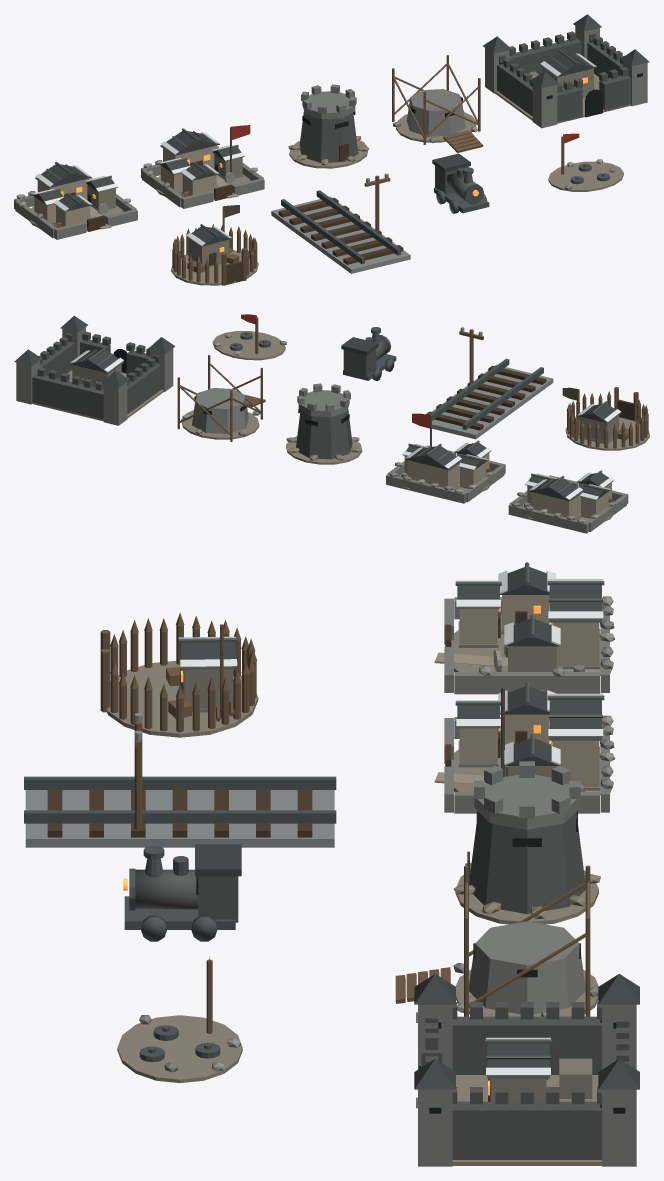
The model's file is taihang-tile-assets-catalog.glb.
The picture shows the model from 3 angles, top to bottom: view 1: azimuth 30°, elevation 25°; view 2: azimuth 150°, elevation 25°; view 3: azimuth 270°, elevation 25°; orthographic projection. The views are drawn at different scales.
Parts seen in each view (by area): view 1: TH_RailSegment_Ballast, TH_Pillbox_Body, TH_PillboxSite_HalfShell, TH_MineCluster_Ground, TH_CountyTown_BackWall, TH_CountyTown_LeftWall, TH_CountyTown_CornerTower_0, TH_Pillbox_ConcreteCap, TH_CountyTown_FrontWallR, TH_CountyTown_FrontWallL, TH_RailSegment_Rail_+0.23, TH_RailSegment_Rail_-0.23 (+25 smaller); view 2: TH_Pillbox_Body, TH_CountyTown_BackWall, TH_PillboxSite_HalfShell, TH_RailSegment_Ballast, TH_MineCluster_Ground, TH_CountyTown_LeftWall, TH_VillageHQ_MainHouse_Walls, TH_CountyTown_CornerTower_2, TH_Pillbox_ConcreteCap, TH_VillageHQ_Wall_0, TH_VillageNeutral_Wall_0, TH_VillageNeutral_MainHouse_Walls (+22 smaller); view 3: TH_RailSegment_Ballast, TH_Pillbox_Body, TH_CountyTown_RightWall, TH_PillboxSite_HalfShell, TH_CountyTown_LeftWall, TH_MineCluster_Ground, TH_RailSegment_Rail_-0.23, TH_RailSegment_Rail_+0.23, TH_Pillbox_ConcreteCap, TH_BanditStockade_Ground, TH_VillageNeutral_Wall_2, TH_CountyTown_CornerTower_1 (+35 smaller).
Boxes of the visible parts, x1,y1,x2,y2 form: TH_RailSegment_Ballast: [271, 196, 410, 273]; TH_Pillbox_Body: [299, 111, 358, 162]; TH_PillboxSite_HalfShell: [407, 89, 465, 136]; TH_MineCluster_Ground: [548, 161, 623, 191]; TH_CountyTown_BackWall: [509, 38, 581, 74]; TH_CountyTown_LeftWall: [497, 64, 532, 116]; TH_CountyTown_CornerTower_0: [532, 83, 557, 128]; TH_Pillbox_ConcreteCap: [302, 91, 355, 119]; TH_CountyTown_FrontWallR: [599, 75, 630, 111]; TH_CountyTown_FrontWallL: [557, 86, 582, 122]; TH_RailSegment_Rail_+0.23: [316, 190, 400, 255]; TH_RailSegment_Rail_-0.23: [281, 199, 364, 263]; TH_Pillbox_Body: [296, 409, 352, 459]; TH_CountyTown_BackWall: [32, 373, 103, 419]; TH_PillboxSite_HalfShell: [192, 388, 248, 433]; TH_RailSegment_Ballast: [432, 364, 553, 439]; TH_MineCluster_Ground: [212, 331, 285, 360]; TH_CountyTown_LeftWall: [127, 363, 161, 414]; TH_VillageHQ_MainHouse_Walls: [407, 460, 459, 489]; TH_CountyTown_CornerTower_2: [103, 382, 127, 425]; TH_Pillbox_ConcreteCap: [298, 390, 349, 417]; TH_VillageHQ_Wall_0: [386, 474, 466, 503]; TH_VillageNeutral_Wall_0: [508, 504, 588, 533]; TH_VillageNeutral_MainHouse_Walls: [531, 492, 580, 518]; TH_RailSegment_Ballast: [25, 790, 334, 847]; TH_Pillbox_Body: [470, 811, 585, 914]; TH_CountyTown_RightWall: [452, 1101, 601, 1159]; TH_PillboxSite_HalfShell: [469, 921, 585, 1014]; TH_CountyTown_LeftWall: [452, 1016, 601, 1074]; TH_MineCluster_Ground: [117, 1015, 242, 1082]; TH_RailSegment_Rail_-0.23: [24, 776, 336, 789]; TH_RailSegment_Rail_+0.23: [24, 810, 336, 823]; TH_Pillbox_ConcreteCap: [474, 774, 580, 829]; TH_BanditStockade_Ground: [106, 660, 258, 737]; TH_VillageNeutral_Wall_2: [454, 672, 599, 694]; TH_CountyTown_CornerTower_1: [418, 1089, 452, 1166].
Size of the model in its own units: 7.57 by 0.77 by 3.55.
